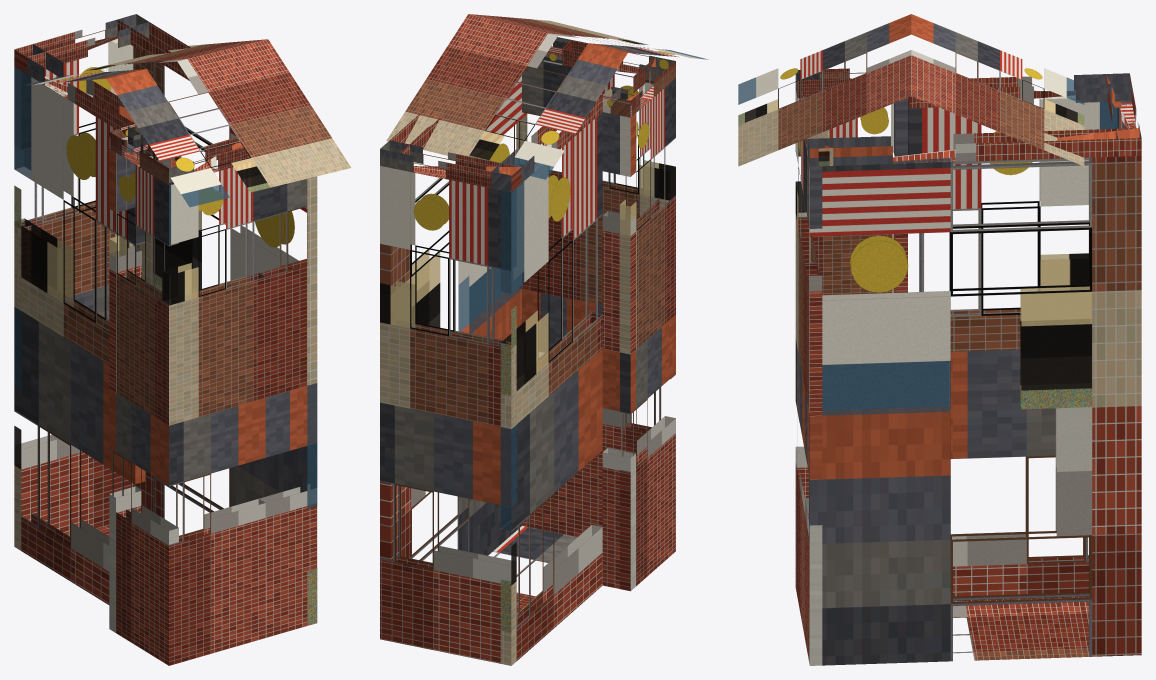
3 renders of one model, left to right at view 1: azimuth 30°, elevation 25°; view 2: azimuth 150°, elevation 25°; view 3: azimuth 270°, elevation 25°, orthographic. The views are drawn at different scales.
Parts seen in each view (by area): view 1: 389984222__wall_0_xb, 389984222__wall_4_xb, 389984222__wall_6_xb, 389984222_roof_-1_xb, 389984222__wall_3_xb, 389984222__wall_1_xb, 389984222__wall_2_xb, 389984222__wall_5_xb, 389984222__wall_4_xf, 389984222__wall_2_xf, 389984222__cornice_4, 389984222__cornice_3 (+8 smaller); view 2: 389984222__wall_3_xb, 389984222__wall_4_xb, 389984222__wall_6_xb, 389984222_roof_1_xb, 389984222__wall_2_xb, 389984222__wall_0_xb, 389984222__wall_5_xb, 389984222__wall_1_xb, 389984222__wall_4_xf, 389984222__wall_2_xf, 389984222__cornice_3, 389984222__wall_3_xf (+9 smaller); view 3: 389984222__wall_2_xb, 389984222__wall_4_xb, 389984222__wall_2_xf, 389984222_roof_-1_xb, 389984222_roof_1_xb, 389984222__wall_1_xb, 389984222__cornice_2, 389984222__base, 389984222__wall_6_xb, 389984222__wall_0_xb, 389984222__cornice_4, 389984222__wall_4_xf (+3 smaller).
Boxes of the visible parts, x1,y1,x2,y2 form: 389984222__wall_0_xb: [162, 162, 265, 665]; 389984222__wall_4_xb: [14, 71, 145, 604]; 389984222__wall_6_xb: [109, 151, 178, 665]; 389984222_roof_-1_xb: [106, 39, 351, 207]; 389984222__wall_3_xb: [14, 38, 133, 550]; 389984222__wall_1_xb: [259, 179, 317, 637]; 389984222__wall_2_xb: [133, 46, 317, 625]; 389984222__wall_5_xb: [109, 143, 141, 632]; 389984222__wall_4_xf: [14, 71, 73, 302]; 389984222__wall_2_xf: [155, 211, 316, 624]; 389984222__cornice_4: [27, 44, 135, 136]; 389984222__cornice_3: [14, 14, 149, 73]; 389984222__wall_3_xb: [380, 166, 516, 665]; 389984222__wall_4_xb: [500, 112, 602, 665]; 389984222__wall_6_xb: [620, 78, 675, 591]; 389984222_roof_1_xb: [386, 14, 627, 179]; 389984222__wall_2_xb: [380, 75, 527, 560]; 389984222__wall_0_xb: [566, 66, 675, 536]; 389984222__wall_5_xb: [602, 112, 635, 590]; 389984222__wall_1_xb: [513, 55, 566, 534]; 389984222__wall_4_xf: [501, 182, 548, 631]; 389984222__wall_2_xf: [411, 251, 521, 333]; 389984222__cornice_3: [380, 140, 521, 192]; 389984222__wall_3_xf: [380, 189, 516, 584]; 389984222__wall_2_xb: [809, 156, 1141, 665]; 389984222__wall_4_xb: [908, 95, 1125, 601]; 389984222__wall_2_xf: [809, 165, 1091, 540]; 389984222_roof_-1_xb: [738, 14, 911, 166]; 389984222_roof_1_xb: [911, 14, 1084, 166]; 389984222__wall_1_xb: [805, 139, 822, 665]; 389984222__cornice_2: [808, 128, 1141, 166]; 389984222__base: [953, 597, 1089, 660]; 389984222__wall_6_xb: [795, 103, 893, 497]; 389984222__wall_0_xb: [795, 89, 817, 637]; 389984222__cornice_4: [908, 73, 1131, 108]; 389984222__wall_4_xf: [1040, 102, 1125, 285].
Bounding box in the file's own units: 0.247 × 0.7988 × 0.5122.
Materials: 1 (1 with a texture image).
